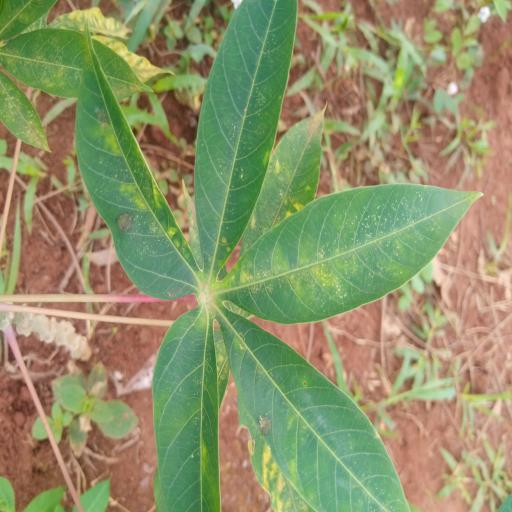Cassava_Mosaic: (72, 0, 484, 512)
